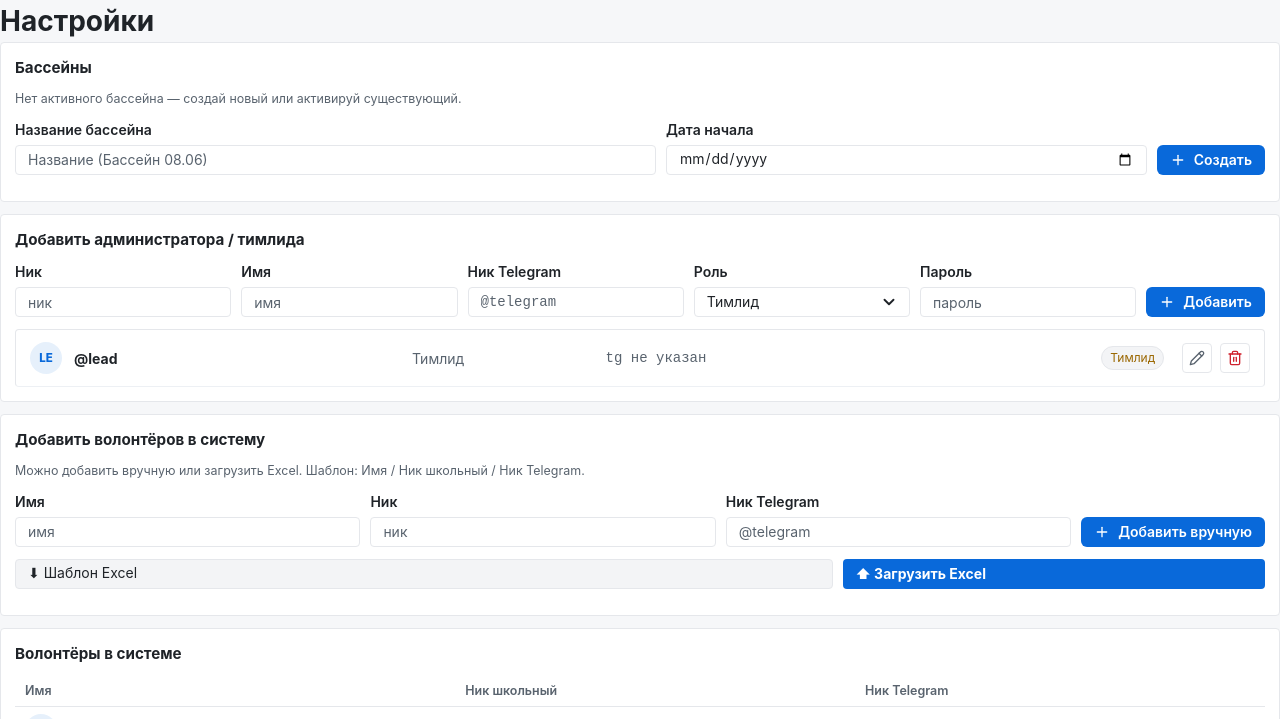
Scenario: submits the labeled pool fields with the existing date payload
expect the text "@lead" is shown: met, box [74, 350, 118, 367]
Type "Бассейн октября" into the field labelled "Название бассейна".
click(335, 160); type("Бассейн октября")  # box [15, 144, 656, 174]
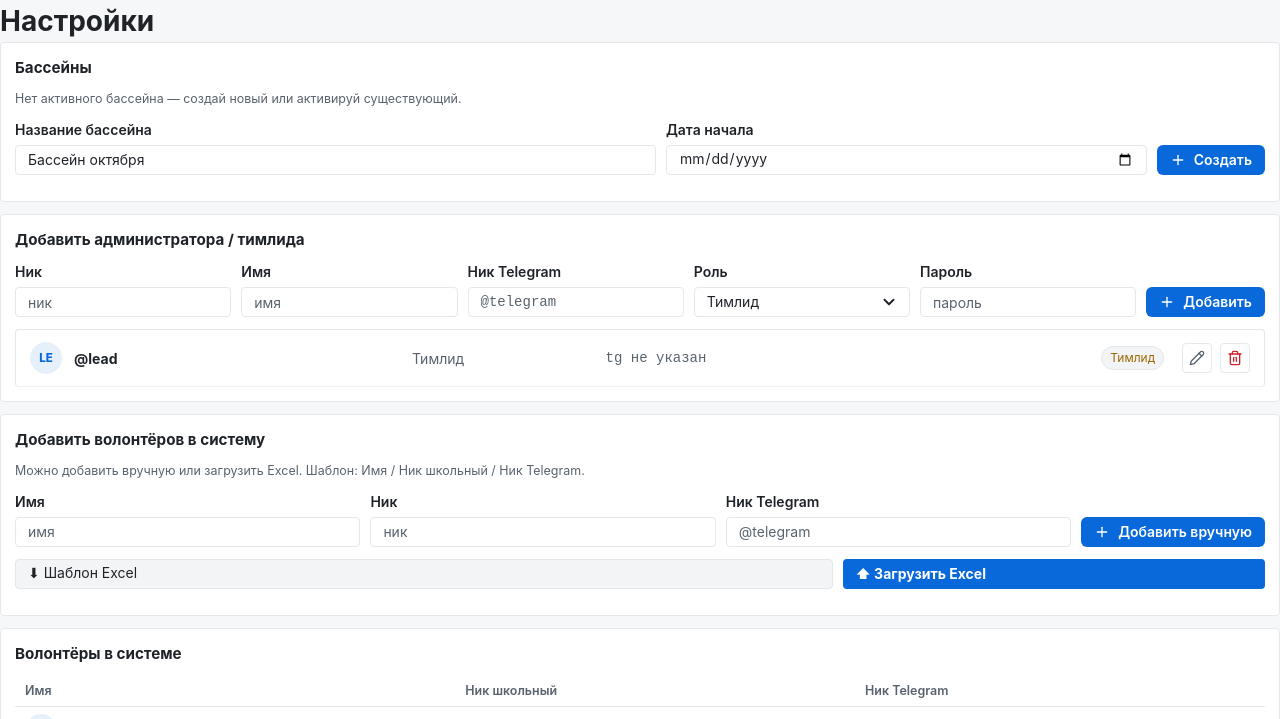
Type "2026-10-20" into the date field labelled "Дата начала".
click(906, 160); type("2026-10-20")  # box [666, 144, 1147, 174]
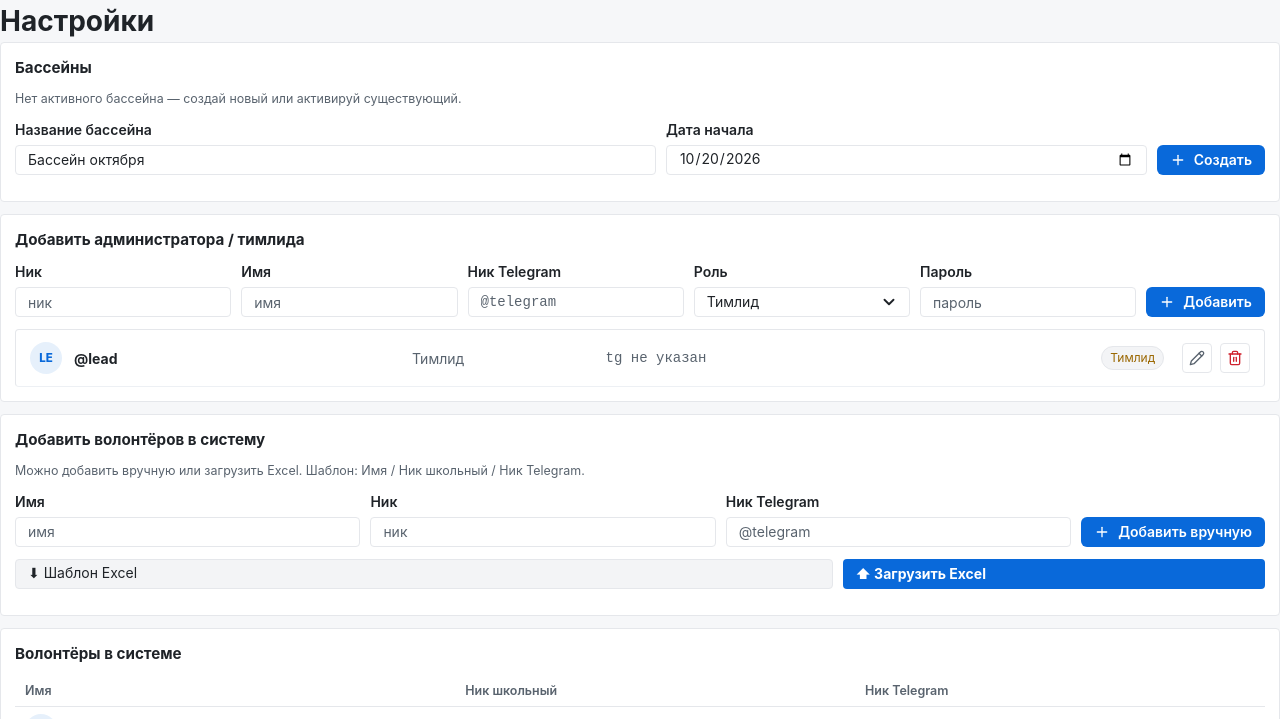
Click the button "Создать".
click(1211, 160)  # box [1157, 144, 1265, 174]
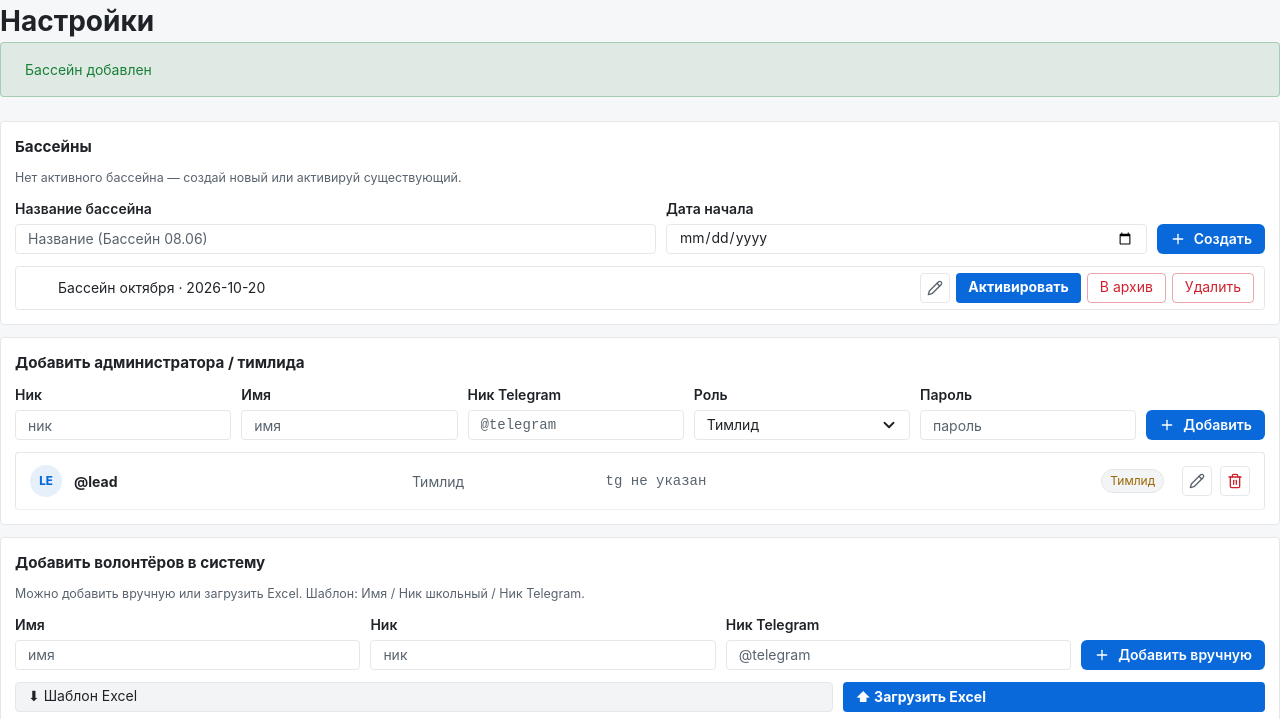
expect the text "Бассейн добавлен" is shown: met, box [0, 42, 1279, 97]
